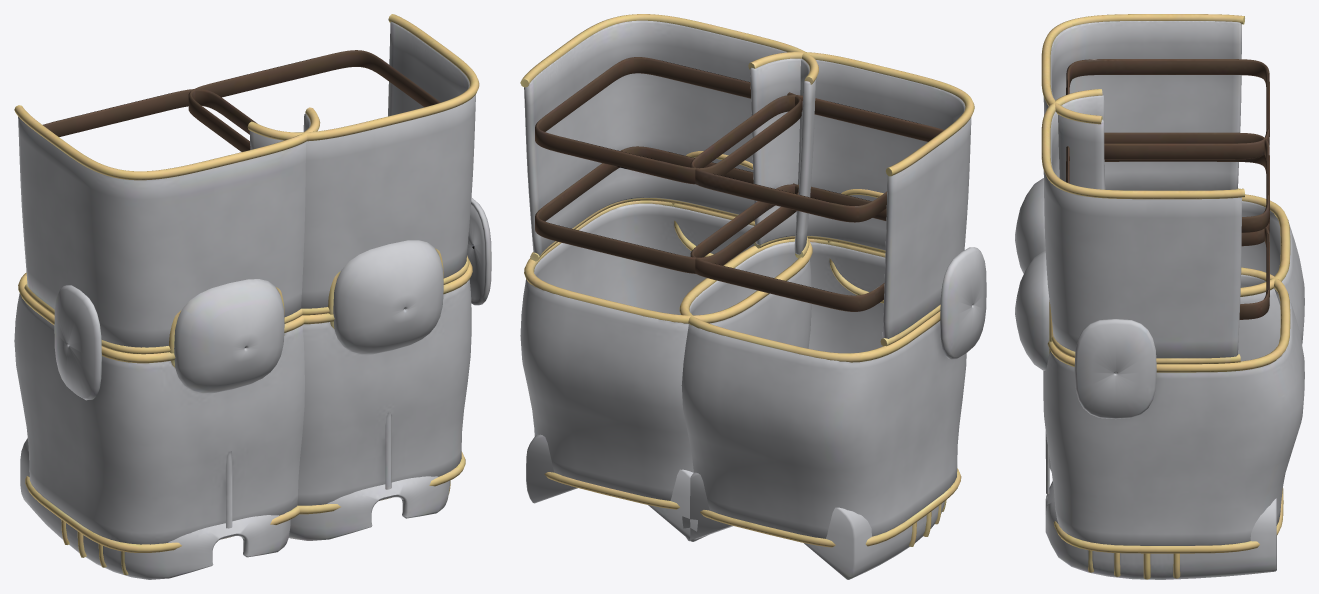
File: knight_greaves.fbx
3 renders of one model, left to right at view 1: azimuth 30°, elevation 25°; view 2: azimuth 150°, elevation 25°; view 3: azimuth 270°, elevation 25°, orthographic. The views are drawn at different scales.
Visible parts, largest first — view 1: RightLowerLeg, RightUpperLeg, LeftLowerLeg, LeftUpperLeg, RightFoot, LeftFoot; view 2: RightLowerLeg, LeftUpperLeg, LeftLowerLeg, RightUpperLeg, RightFoot, LeftFoot; view 3: LeftLowerLeg, LeftUpperLeg, RightUpperLeg, RightLowerLeg, LeftFoot.
Boxes of the visible parts, bbox=[...] form: RightLowerLeg: bbox=[14, 272, 304, 552]; RightUpperLeg: bbox=[14, 89, 320, 354]; LeftLowerLeg: bbox=[297, 197, 491, 514]; LeftUpperLeg: bbox=[188, 14, 479, 315]; RightFoot: bbox=[20, 438, 290, 579]; LeftFoot: bbox=[289, 476, 450, 540]; RightLowerLeg: bbox=[679, 189, 986, 547]; LeftUpperLeg: bbox=[520, 14, 818, 273]; LeftLowerLeg: bbox=[520, 151, 812, 509]; RightUpperLeg: bbox=[690, 52, 974, 346]; RightFoot: bbox=[682, 472, 946, 579]; LeftFoot: bbox=[526, 434, 707, 541]; LeftLowerLeg: bbox=[1015, 251, 1304, 553]; LeftUpperLeg: bbox=[1041, 89, 1269, 364]; RightUpperLeg: bbox=[1041, 14, 1269, 246]; RightLowerLeg: bbox=[1015, 178, 1304, 361]; LeftFoot: bbox=[1045, 481, 1276, 579].
Size of the model in its own units: 2.58 by 2.53 by 1.66.
1 material, 1 textured.
